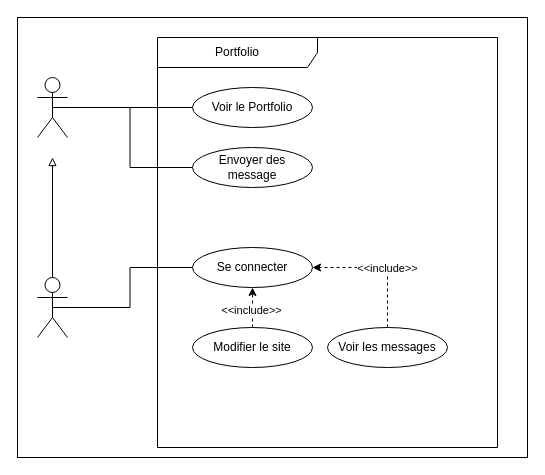
This 545x475 diagram has some shape labels left out. Each missing label, with the centre of its shape:
Admin: [52,307]
Visiteur: [52,107]
